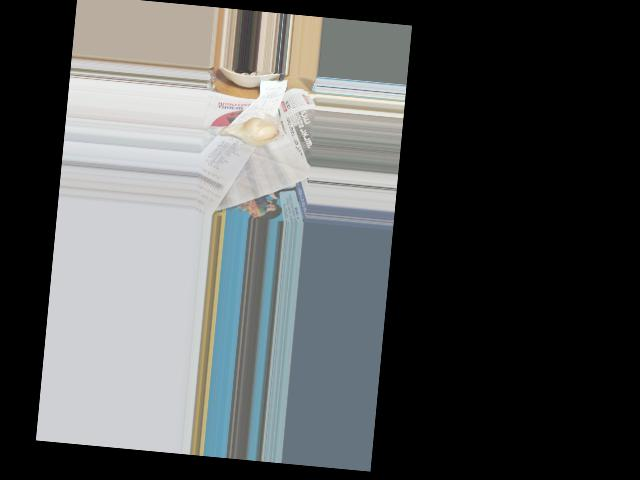onion: (219, 114, 279, 150)
